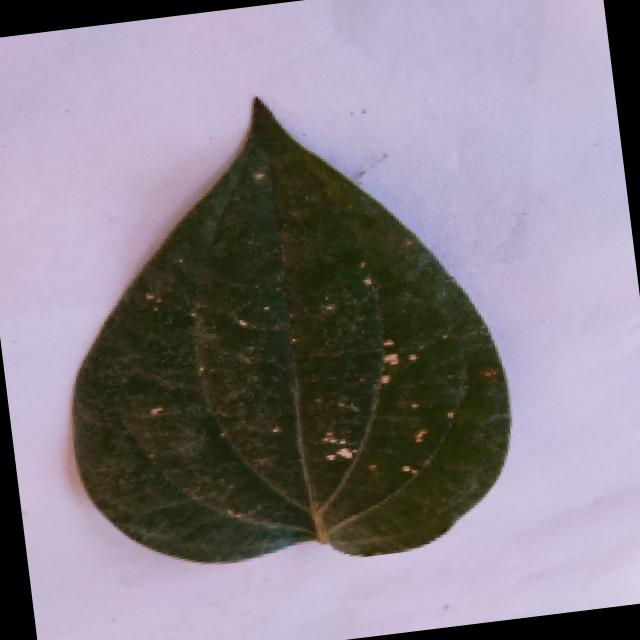pollu-disease: (15, 76, 536, 595)
